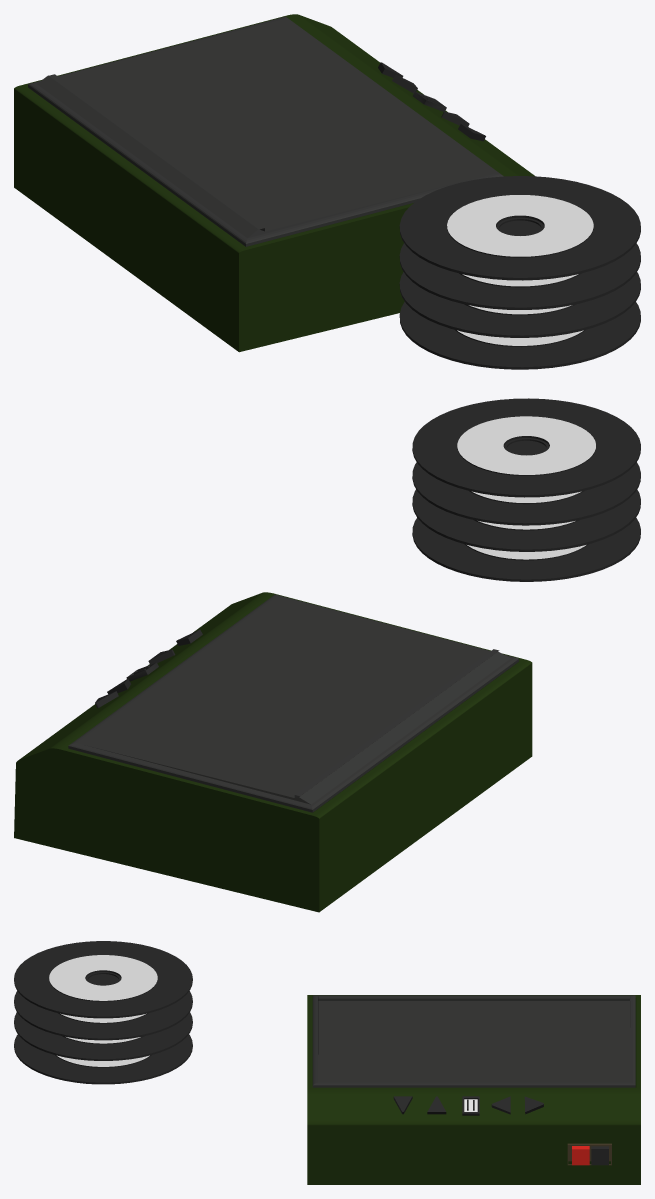
File: cdPlayer.fbx
3 renders of one model, top to bottom at view 1: azimuth 30°, elevation 25°; view 2: azimuth 150°, elevation 25°; view 3: azimuth 270°, elevation 25°, orthographic. The views are drawn at different scales.
Visible parts, largest first — view 1: bodylid, PlayerBody, CD.001, CD.004, CD.002, CD.003; view 2: PlayerBody, bodylid, CD.001, CD.004, CD.002, CD.003; view 3: PlayerBody, bodylid, CD.001, CD.004, CD.002, CD.003, switch2, switch1, pause.
Part boxes in pixels (x1,y1,x2,y2): bodylid: (28, 16, 503, 246); PlayerBody: (14, 14, 534, 352); CD.001: (399, 176, 640, 280); CD.004: (399, 302, 640, 369); CD.002: (399, 243, 640, 309); CD.003: (399, 272, 640, 337); PlayerBody: (14, 592, 532, 912); bodylid: (68, 594, 518, 812); CD.001: (412, 398, 640, 497); CD.004: (412, 517, 640, 581); CD.002: (412, 462, 640, 525); CD.003: (412, 489, 640, 551); PlayerBody: (307, 995, 640, 1184); bodylid: (312, 995, 635, 1087); CD.001: (14, 941, 192, 1018); CD.004: (14, 1034, 192, 1084); CD.002: (14, 991, 192, 1040); CD.003: (14, 1012, 192, 1060); switch2: (591, 1146, 608, 1165); switch1: (572, 1146, 589, 1165); pause: (462, 1096, 479, 1115).
Size of the model in its own units: 25.4 by 14.15 by 56.46.
